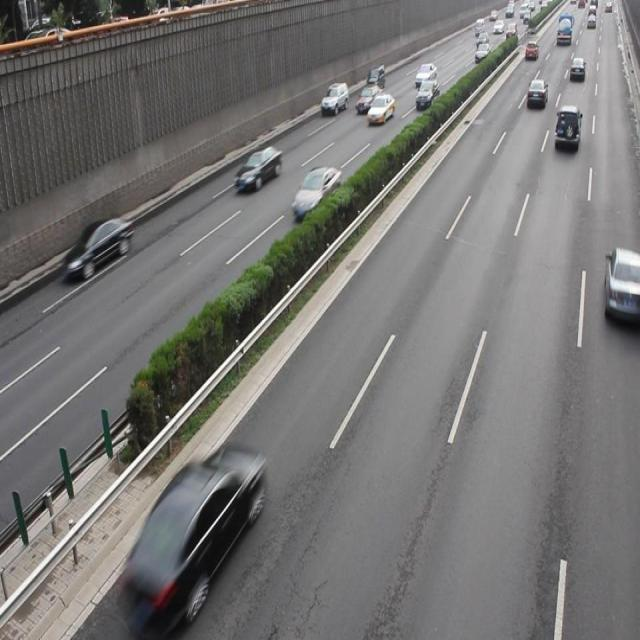car: (123, 442, 263, 622), (63, 215, 134, 274), (600, 245, 640, 319), (292, 163, 342, 219), (234, 143, 282, 191), (552, 105, 578, 155), (319, 81, 349, 116), (365, 93, 395, 125), (354, 85, 380, 112)
